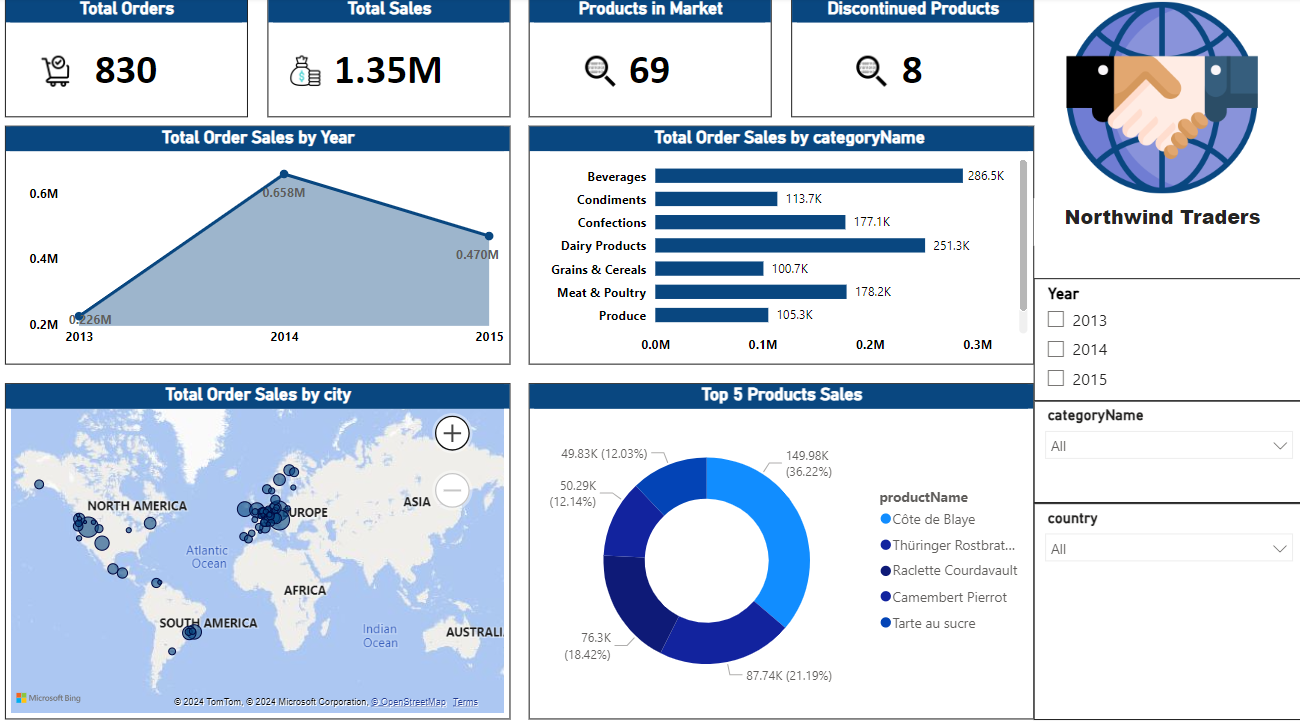

Layout of this report page (visuals, bound fields, positions):
{"tool":"powerbi","page":{"name":"Page 1","canvas":[1280,720],"ordinal":0},"visuals":[{"type":"card","title":"Total Orders","fields":{"Values":["_Measures.Total Orders"]},"box":[9.8,0,237.2,117.4],"z":0},{"type":"card","title":"Total Sales","fields":{"Values":["_Measures.Total Order Sales"]},"box":[266.2,0,237.2,117.4],"z":1000},{"type":"card","title":"Products in Market","fields":{"Values":["_Measures.Products in Market"]},"box":[522.6,0,237.2,117.4],"z":2000},{"type":"card","title":"Discontinued Products","fields":{"Values":["_Measures.Discontinued Product"]},"box":[778.9,0,237.2,117.4],"z":3000},{"type":"lineChart","fields":{"Category":["Fact_orders.Year"],"Y":["_Measures.Total Order Sales"]},"box":[9.8,126,494,233.6],"z":4000},{"type":"map","fields":{"Category":["Dim_customers.city","Dim_customers.country"],"Size":["_Measures.Total Order Sales"]},"box":[9.8,377.9,494,328.9],"z":5000},{"type":"clusteredBarChart","fields":{"Category":["Dim_categories.categoryName"],"Y":["_Measures.Total Order Sales"]},"box":[522.1,126,494,233.6],"z":6000},{"type":"donutChart","title":"Top 5 Products Sales","fields":{"Category":["Dim_products.productName"],"Y":["_Measures.Total Order Sales"]},"box":[522,378,494,329],"z":7000},{"type":"image","box":[278.8,48.9,50.1,46.5],"z":8000},{"type":"image","box":[34.2,52.6,48.9,40.4],"z":9000},{"type":"image","box":[569.8,52.6,44,40.4],"z":10000},{"type":"image","box":[835.2,52.6,44,40.4],"z":11000},{"type":"image","box":[1016.2,0,251.9,196.9],"z":12000},{"type":"textbox","box":[1016.2,196.9,251.9,46.5],"z":13000},{"type":"slicer","fields":{"Values":["Fact_orders.Year"]},"box":[1016.2,275.1,264.1,119.8],"z":14000},{"type":"slicer","fields":{"Values":["Dim_categories.categoryName"]},"box":[1016.2,395,264.1,100.3],"z":15000},{"type":"slicer","fields":{"Values":["Dim_customers.country"]},"box":[1016,495,264,212],"z":16000}]}

Visuals, with their boxes in screenshot pixels (x1, y1, x2, y2), scaled from the page's 1280x720 canvas onto the 1300x725 screenshot:
"Total Orders" card: (left=10, top=0, right=251, bottom=118)
"Total Sales" card: (left=270, top=0, right=511, bottom=118)
"Products in Market" card: (left=531, top=0, right=772, bottom=118)
"Discontinued Products" card: (left=791, top=0, right=1032, bottom=118)
lineChart - Fact_orders.Year x _Measures.Total Order Sales: (left=10, top=127, right=512, bottom=362)
map - Dim_customers.city x Dim_customers.country: (left=10, top=381, right=512, bottom=712)
clusteredBarChart - Dim_categories.categoryName x _Measures.Total Order Sales: (left=530, top=127, right=1032, bottom=362)
"Top 5 Products Sales" donutChart: (left=530, top=381, right=1032, bottom=712)
image: (left=283, top=49, right=334, bottom=96)
image: (left=35, top=53, right=84, bottom=94)
image: (left=579, top=53, right=623, bottom=94)
image: (left=848, top=53, right=893, bottom=94)
image: (left=1032, top=0, right=1288, bottom=198)
textbox: (left=1032, top=198, right=1288, bottom=245)
slicer - Fact_orders.Year: (left=1032, top=277, right=1299, bottom=398)
slicer - Dim_categories.categoryName: (left=1032, top=398, right=1299, bottom=499)
slicer - Dim_customers.country: (left=1032, top=498, right=1299, bottom=712)
